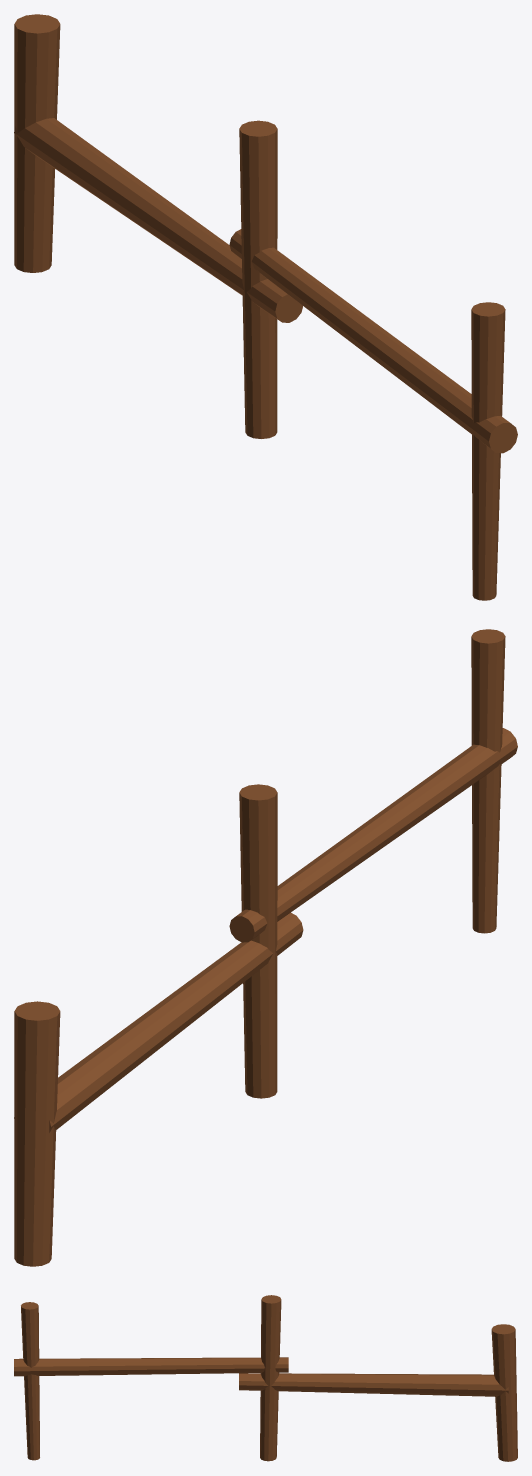
The model's file is fence.fbx.
3 views of the same model, one above another, from view 1: azimuth 30°, elevation 25°; view 2: azimuth 150°, elevation 25°; view 3: azimuth 270°, elevation 25° (orthographic). The views are drawn at different scales.
Visible parts, largest first — view 1: Cylinder.004; view 2: Cylinder.004; view 3: Cylinder.004.
Part boxes in pixels (x1,y1,x2,y2): Cylinder.004: (14, 14, 517, 600); Cylinder.004: (14, 629, 517, 1266); Cylinder.004: (14, 1295, 517, 1461).
Size of the model in its own units: 121 by 879 by 2534.
